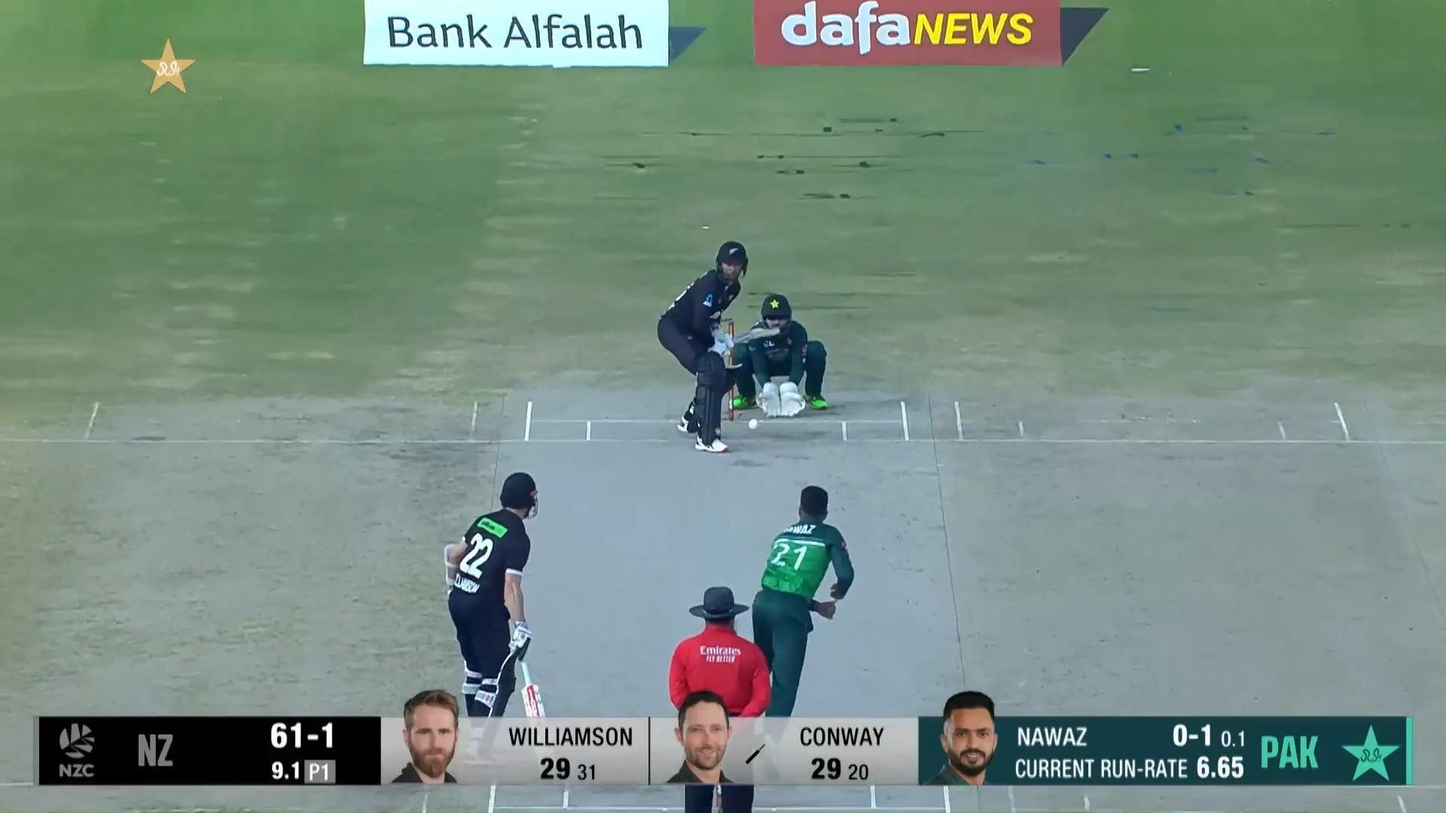BM 1: (656, 239, 782, 455)
BO: (752, 485, 856, 718)
